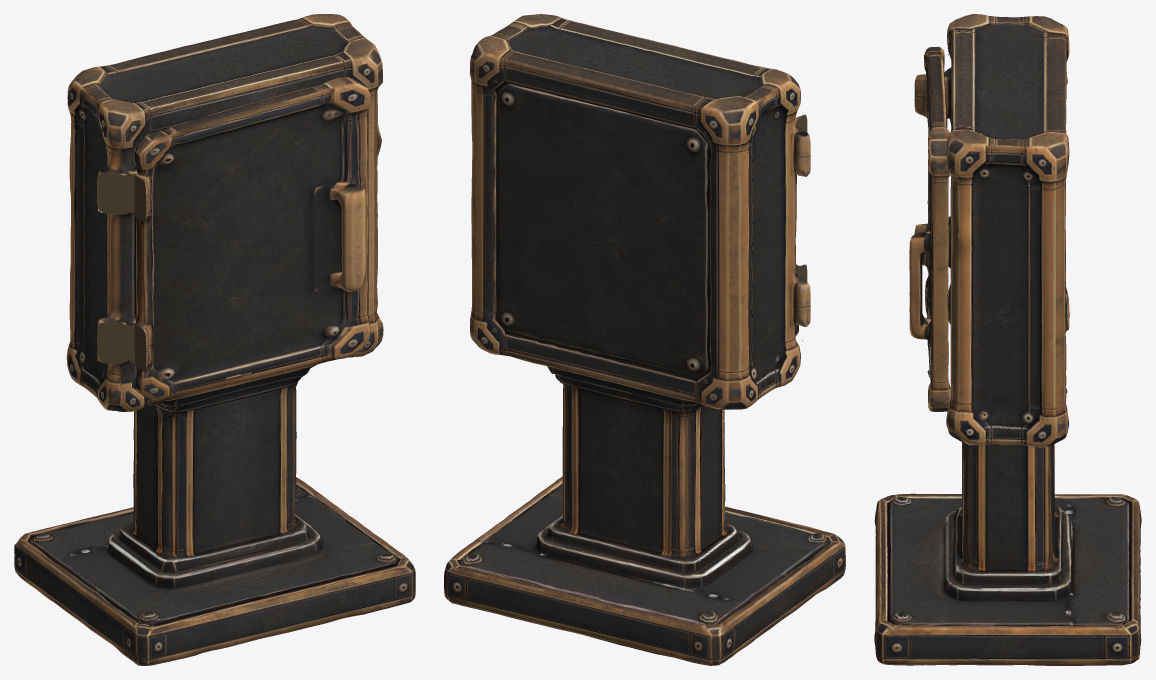
File: Console_Door_Manual.fbx
3 renders of one model, left to right at view 1: azimuth 30°, elevation 25°; view 2: azimuth 150°, elevation 25°; view 3: azimuth 270°, elevation 25°, orthographic.
Parts seen in each view (by area): view 1: Console_Body, Console_Door; view 2: Console_Body; view 3: Console_Body, Console_Door.
Part boxes in pixels (x1,y1,x2,y2): Console_Body: (14,14,415,665); Console_Door: (134,77,370,400); Console_Body: (444,14,845,665); Console_Body: (874,14,1141,665); Console_Door: (909,46,950,411).
Bounding box in the file's own units: 0.5692 × 0.9788 × 0.4514.
2 materials, 1 textured.
